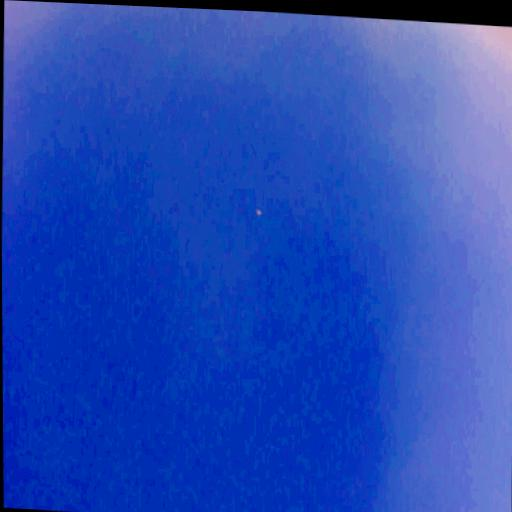drones: (254, 208, 263, 217)
